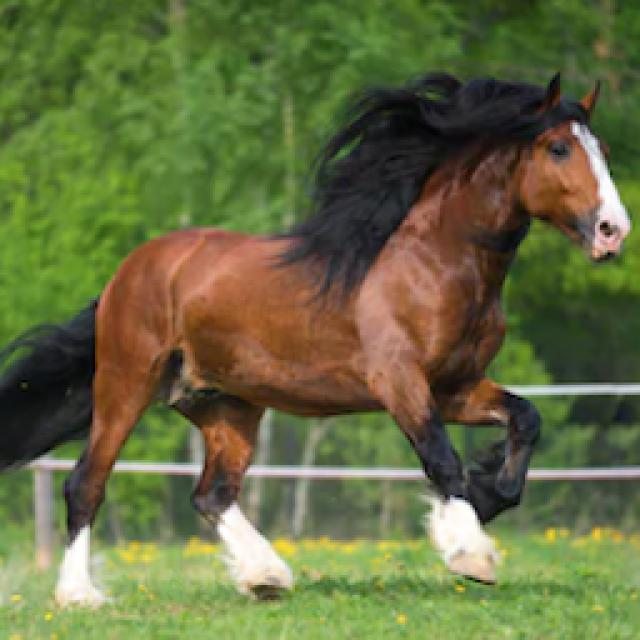Horse: (0, 62, 638, 616)
